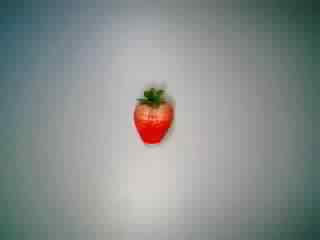strawberry: (117, 84, 183, 146)
